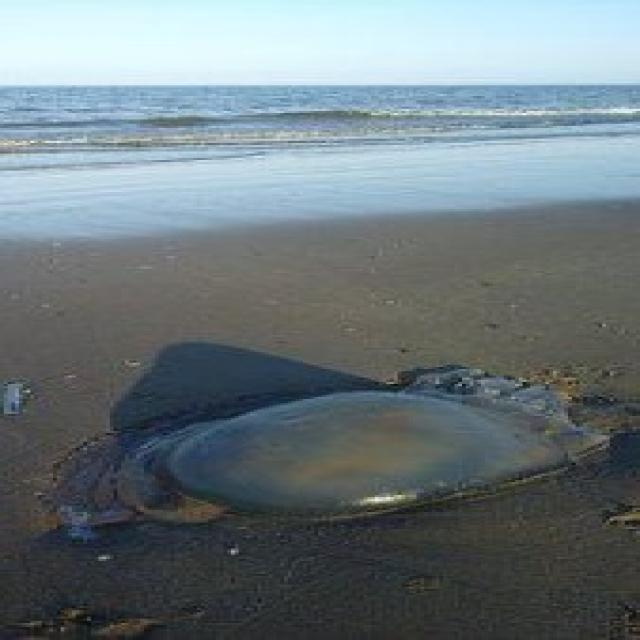Jellyfish: (165, 383, 584, 550)
